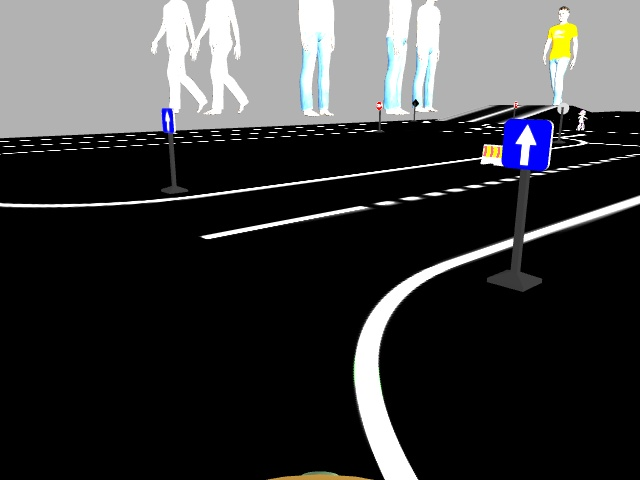ClosedRoadStand: (507, 121, 548, 170), (161, 108, 173, 131)
OneWay: (482, 143, 500, 164)
